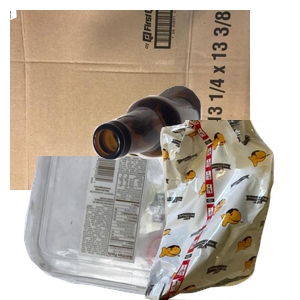cardboard: (10, 10, 250, 190)
glass: (90, 83, 300, 235)
plastic: (21, 156, 226, 300)
trash: (127, 120, 300, 300)
